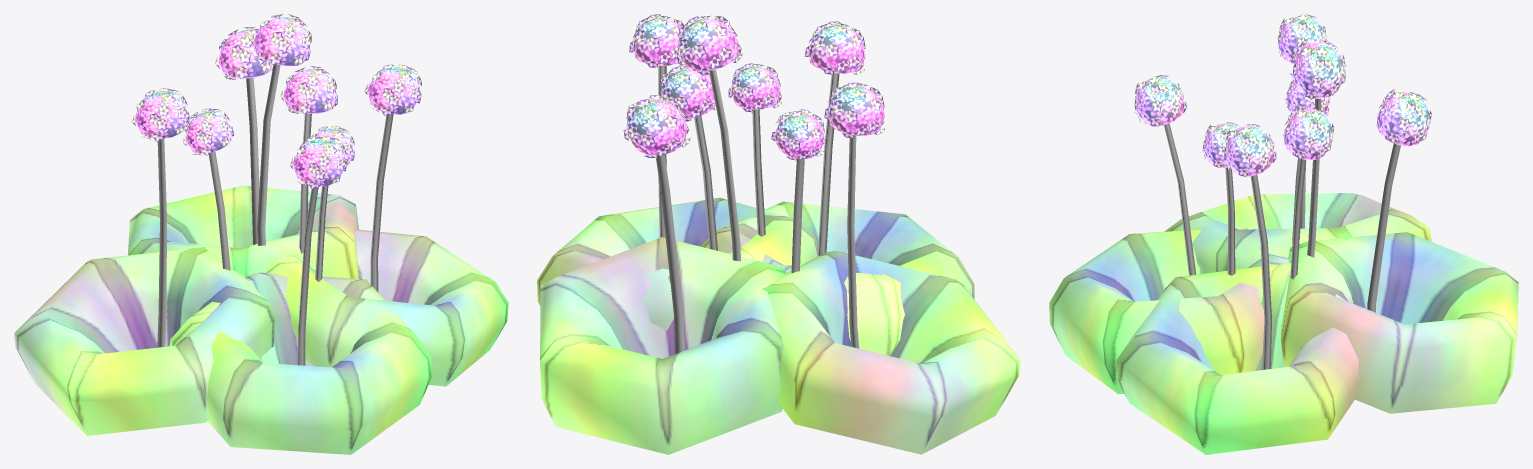
File: allium_SM.fbx
3 renders of one model, left to right at view 1: azimuth 30°, elevation 25°; view 2: azimuth 150°, elevation 25°; view 3: azimuth 270°, elevation 25°, orthographic. The views are drawn at different scales.
Visible parts, largest first — view 1: allium_SM_LOD0; view 2: allium_SM_LOD0; view 3: allium_SM_LOD0.
Boxes of the visible parts, x1,y1,x2,y2 form: allium_SM_LOD0: [14, 14, 508, 454]; allium_SM_LOD0: [537, 14, 1020, 454]; allium_SM_LOD0: [1049, 14, 1518, 454].
Size of the model in its own units: 186 by 177 by 152.
3 materials, 2 textured.
